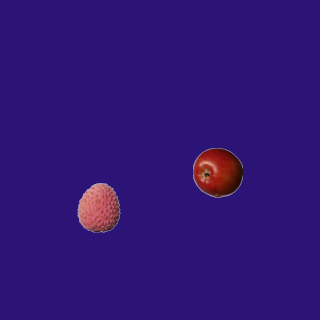Apple Braeburn: (192, 147, 242, 197)
Lychee: (73, 182, 123, 232)
